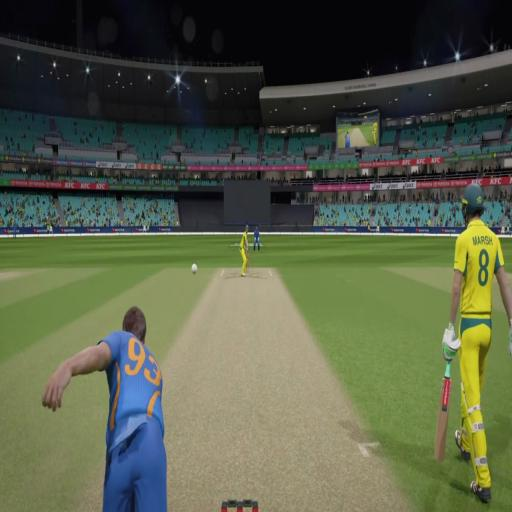ball: (189, 257, 200, 278)
